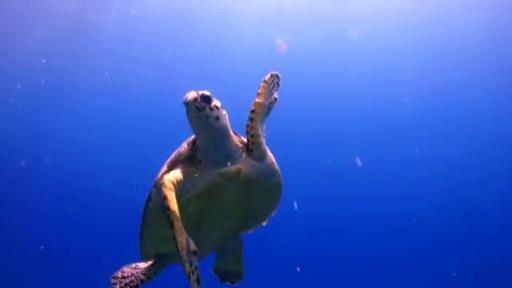Fish: (112, 72, 281, 287)
